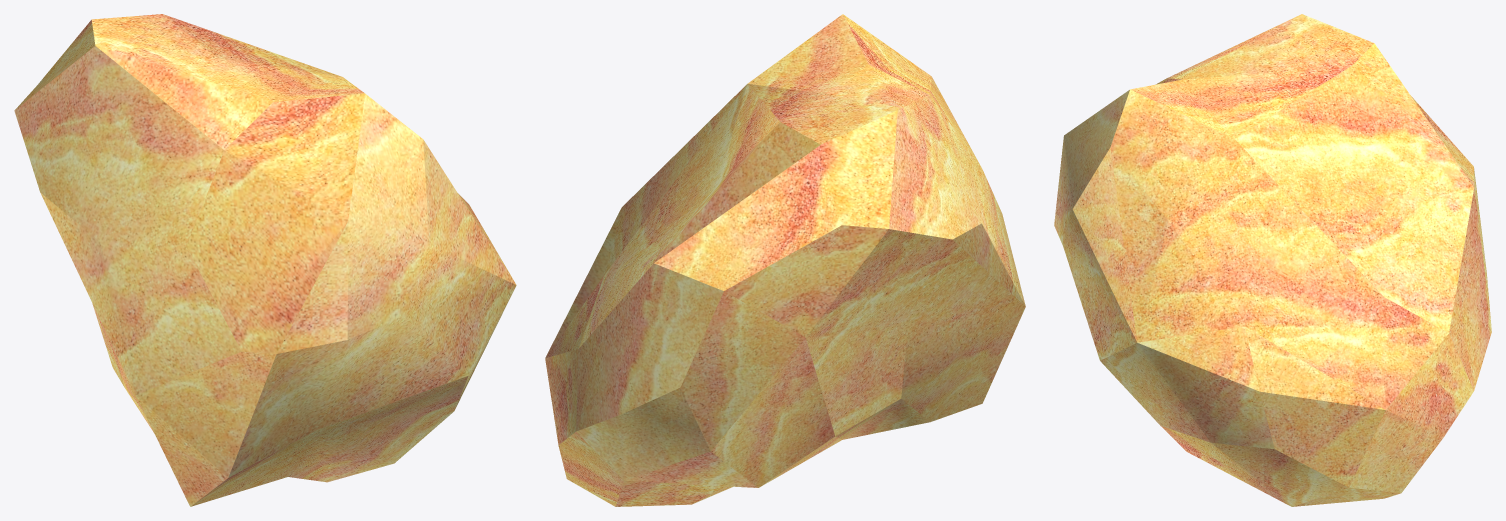
The model's file is boulder-sm-6.glb.
3 views of the same model, side by side, from view 1: azimuth 30°, elevation 25°; view 2: azimuth 150°, elevation 25°; view 3: azimuth 270°, elevation 25° (orthographic). The views are drawn at different scales.
Parts seen in each view (by area): view 1: Icosahedron_n3d; view 2: Icosahedron_n3d; view 3: Icosahedron_n3d.
Part boxes in pixels (x1,y1,x2,y2): Icosahedron_n3d: (14, 14, 516, 506); Icosahedron_n3d: (545, 14, 1025, 506); Icosahedron_n3d: (1054, 14, 1491, 506).
Size of the model in its own units: 0.3815 by 0.4127 by 0.4302.
Materials: 1 (1 with a texture image).
